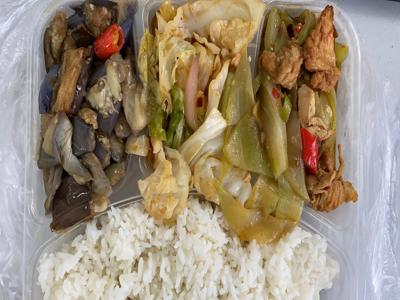cqj: (263, 2, 362, 217)
rice: (29, 194, 343, 298)
sqz: (34, 2, 146, 213)
